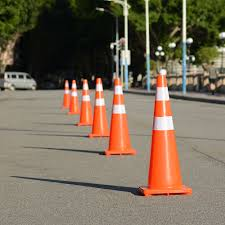cones: (137, 72, 193, 201), (107, 80, 139, 157), (88, 77, 112, 138), (77, 79, 94, 126), (68, 80, 82, 115), (60, 80, 71, 111)
